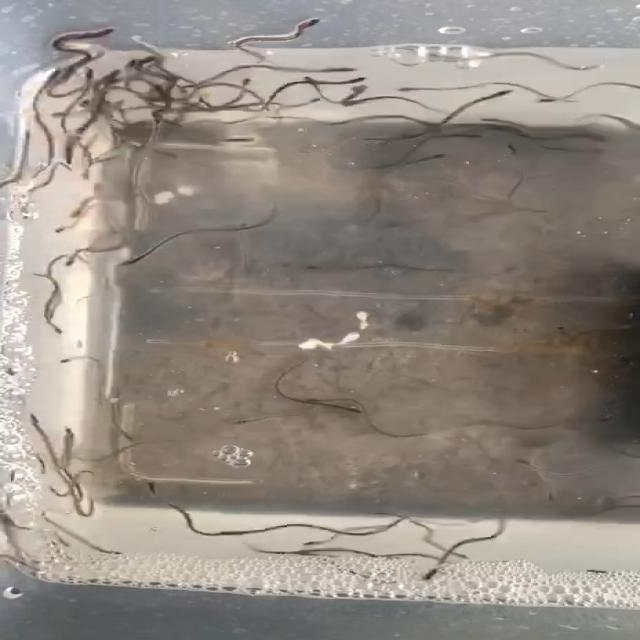inactive_glass_eel: (284, 18, 321, 39), (126, 52, 172, 68), (52, 217, 87, 238), (74, 24, 115, 41), (16, 410, 50, 430), (391, 80, 436, 95), (51, 351, 88, 369), (66, 244, 92, 269), (416, 150, 454, 167), (231, 411, 269, 428), (475, 89, 523, 102), (220, 132, 261, 147), (296, 536, 342, 549), (39, 319, 68, 337), (331, 74, 373, 86), (41, 70, 65, 90), (494, 142, 524, 158), (56, 426, 79, 446), (113, 252, 143, 267), (412, 565, 438, 582), (79, 67, 97, 90), (238, 77, 256, 99), (443, 131, 486, 140), (474, 115, 509, 126), (144, 478, 163, 498), (580, 566, 613, 577), (299, 96, 329, 108), (534, 94, 568, 104), (62, 145, 78, 166), (298, 73, 320, 88), (320, 66, 356, 74), (299, 395, 331, 404), (540, 486, 558, 502), (98, 547, 124, 558), (517, 458, 545, 468), (336, 405, 361, 415)
